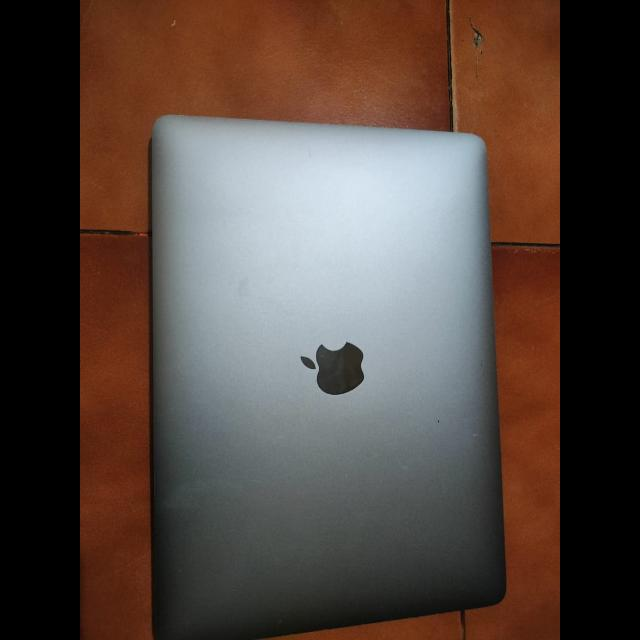laptop: (138, 108, 520, 640)
